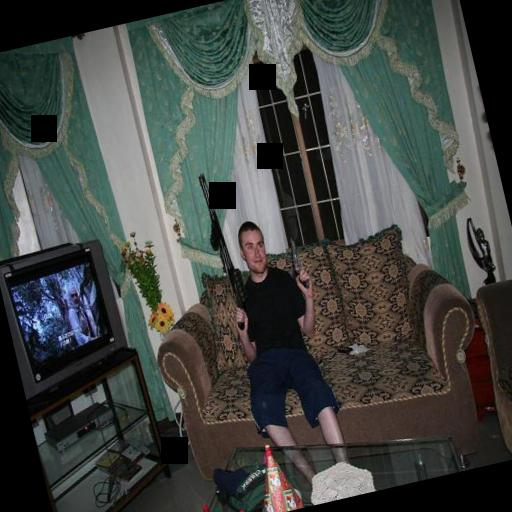Handgun: (282, 232, 313, 292)
